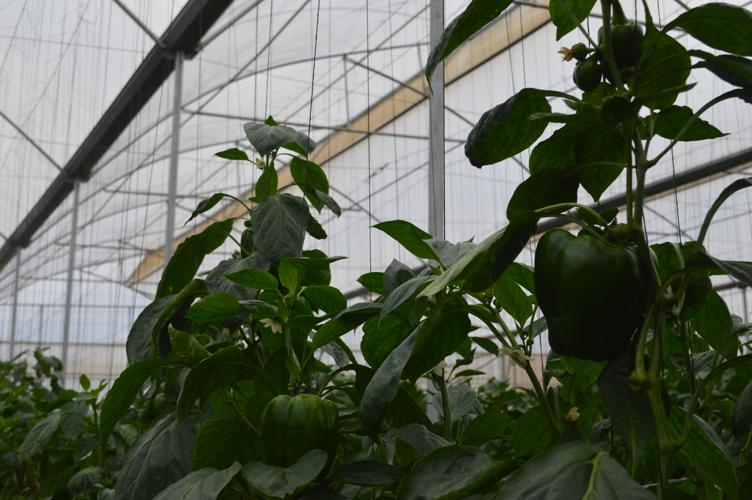BellPepper: (528, 220, 658, 371), (255, 389, 349, 490)
